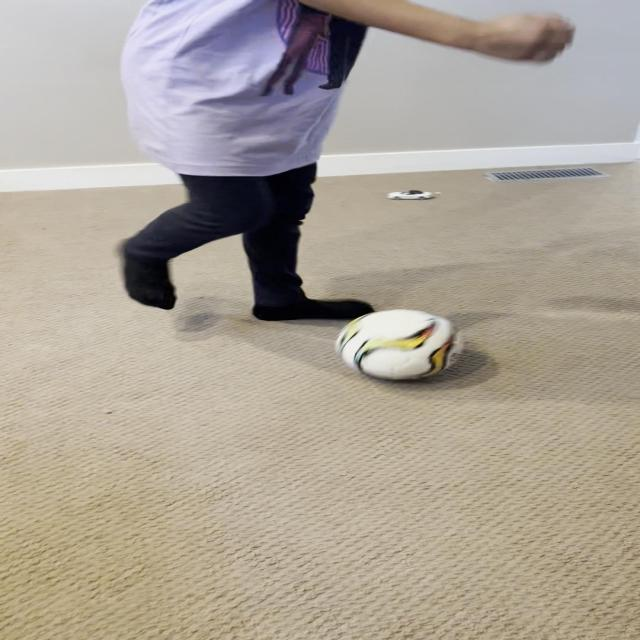Soccer Ball: (336, 308, 466, 383)
